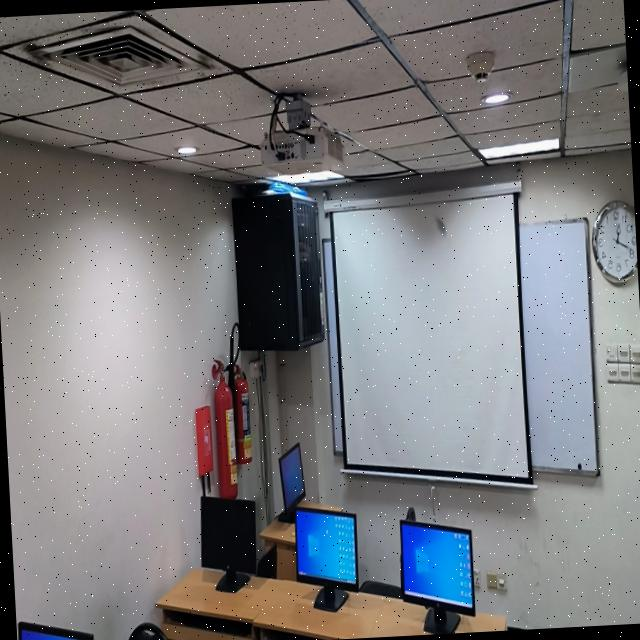Fire Extinguisher: (209, 354, 239, 499), (226, 316, 254, 471)
Light: (472, 139, 561, 159), (272, 172, 342, 184), (479, 87, 512, 107), (174, 142, 197, 158)
Monitor: (396, 512, 480, 636), (289, 500, 361, 616), (193, 486, 260, 594), (17, 608, 93, 640), (276, 442, 304, 518)
Projector: (252, 90, 347, 178)
